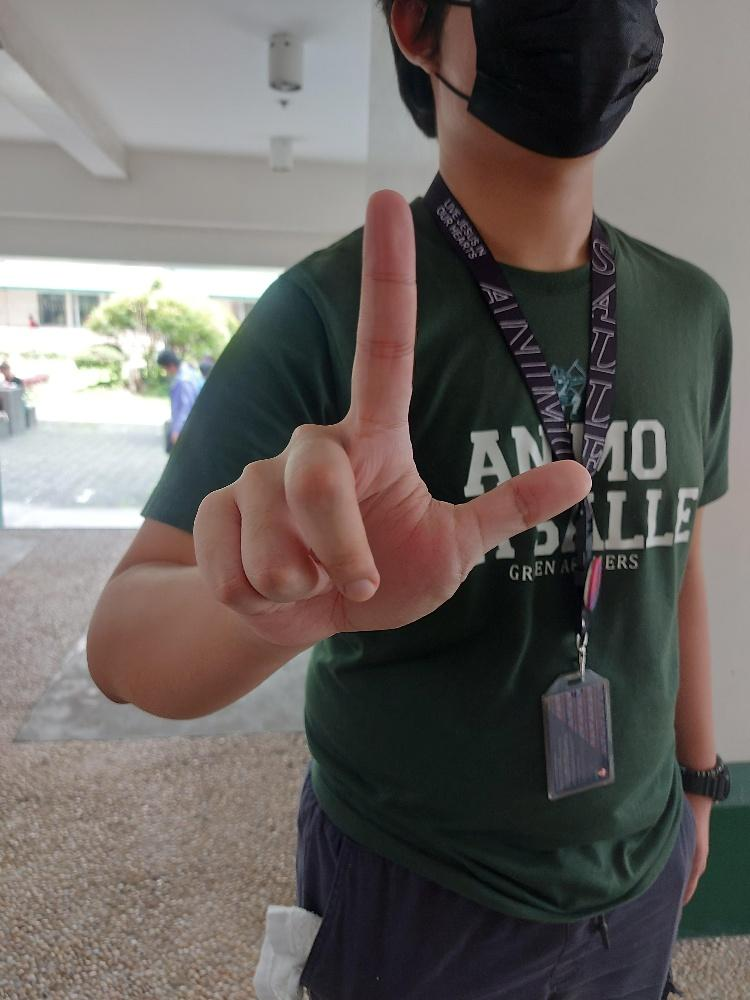l: (191, 187, 591, 645)
